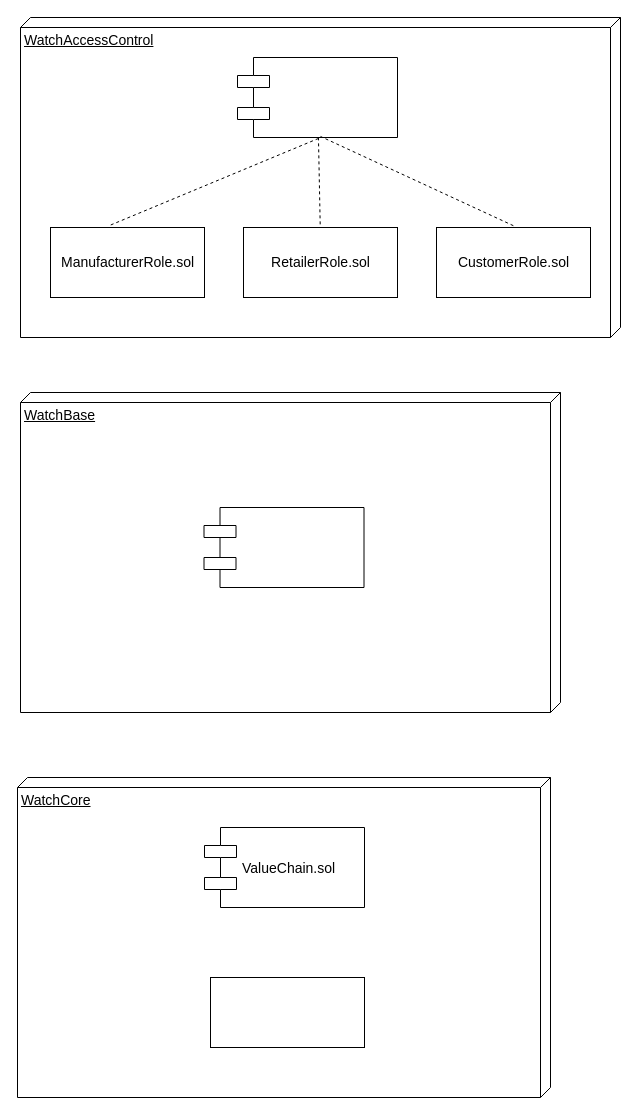
Some shapes in this 638 by 1115 pixel diagram are drawn without their labels. Here are the shapes that lost their labels. From the top down, the centre of each, then its label:
At point (317, 97): "Roles.sol".
At point (283, 547): "SupplyChain.sol".
At point (287, 1012): "Ownable.sol".
